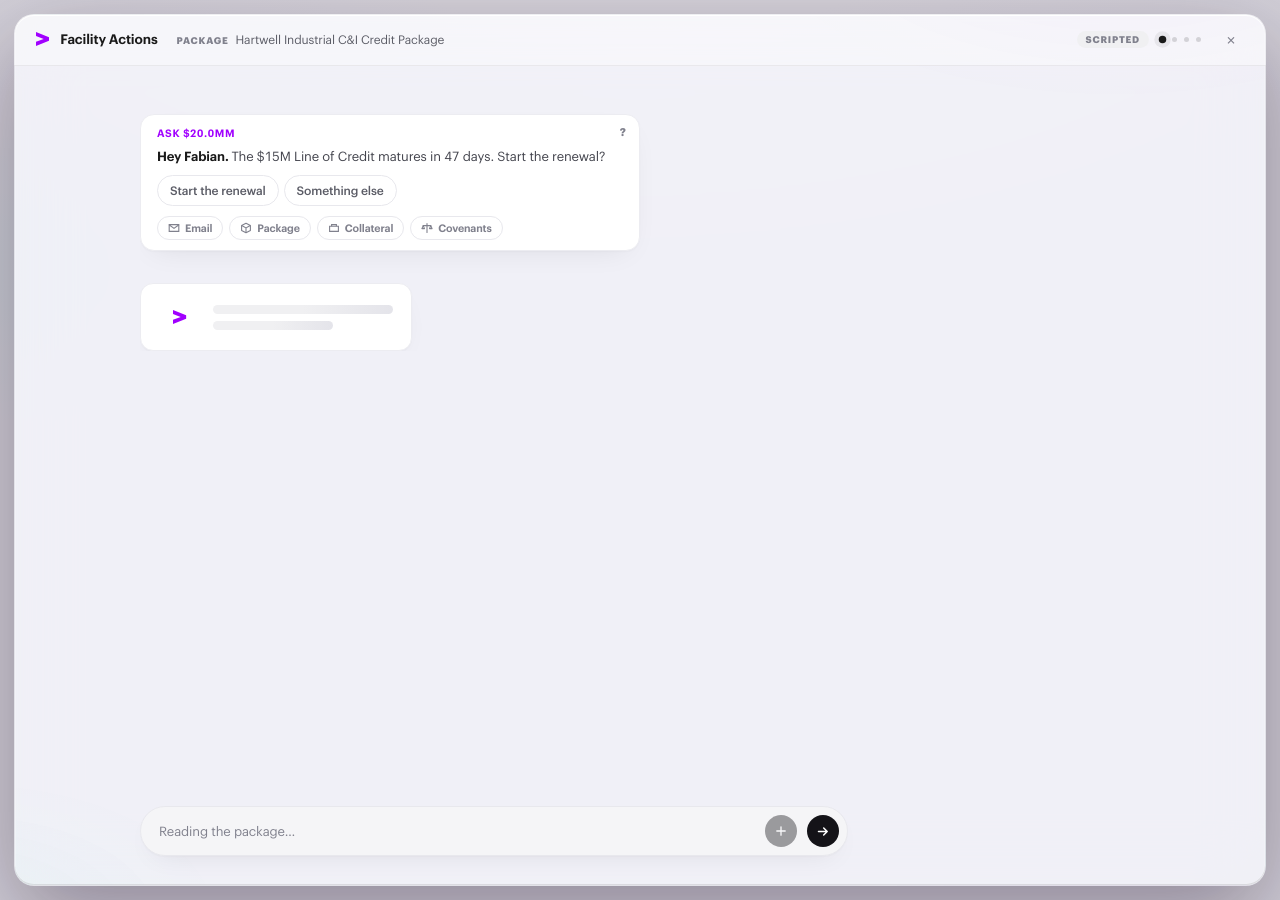
Scenario: the router — the room's first question › falls through to the neutral three-way on Something else, binding nothing
This screenshot has width=1280, height=900.
Click the button with class "wk-opt" showing "Something else": (340, 191) [284,175,397,206]
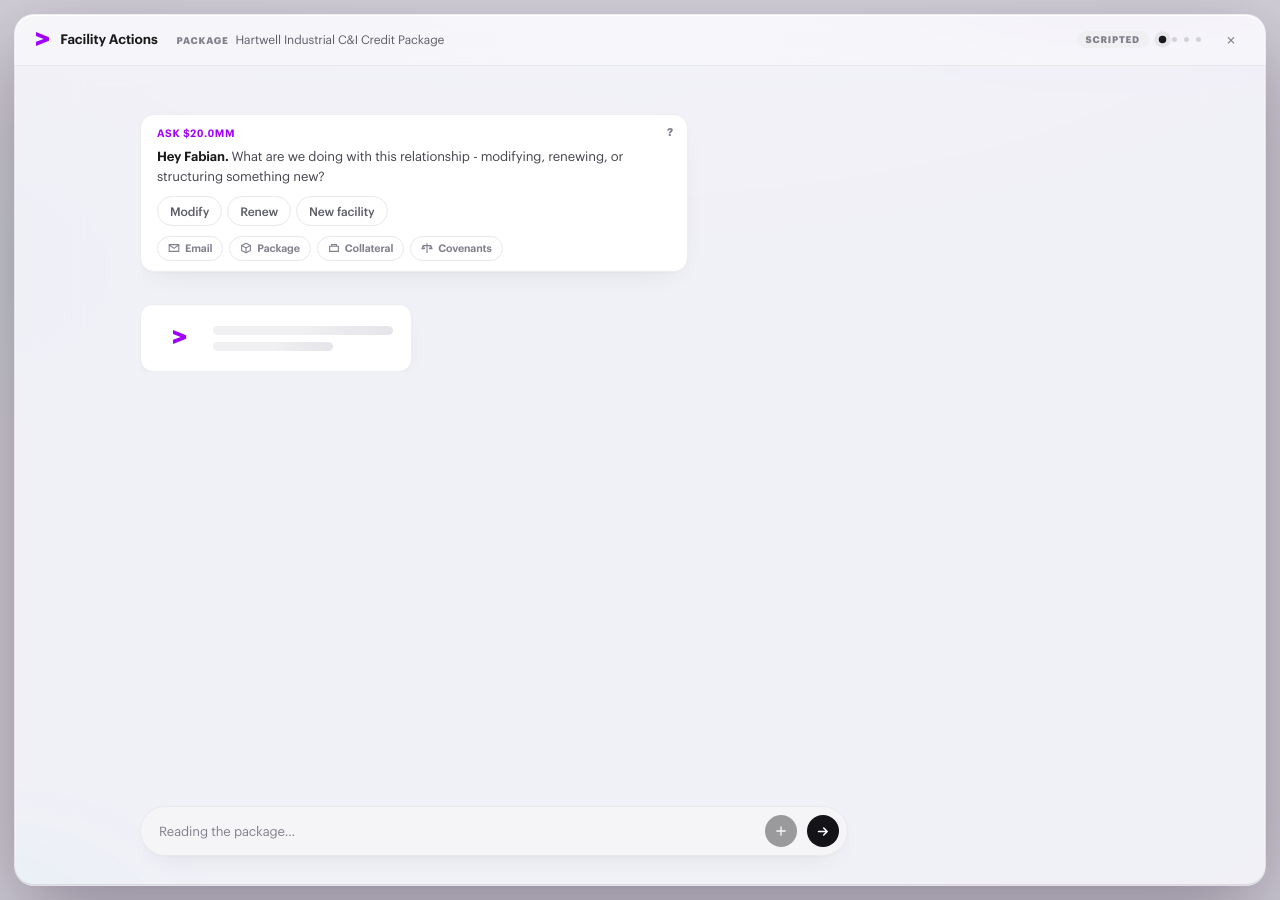
expect the element with class "wk-headline" shows "What are we doing with this relationship": met, box [157,146,652,187]
